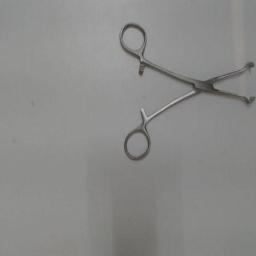Babcock Tissue Forceps: (116, 20, 256, 166)
